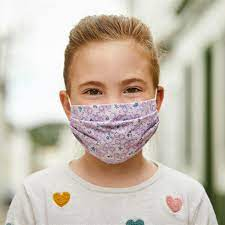FaceMask: (70, 98, 160, 164)
